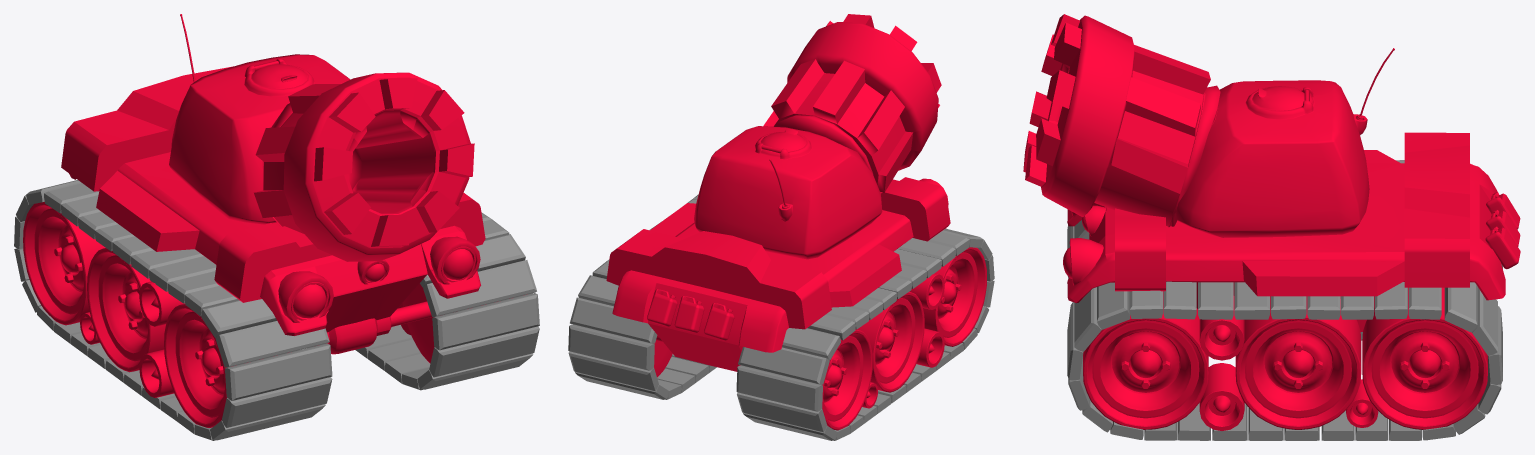
The model's file is HeavyTank.fbx.
The picture shows the model from 3 angles, left to right: view 1: azimuth 30°, elevation 25°; view 2: azimuth 150°, elevation 25°; view 3: azimuth 270°, elevation 25°; orthographic projection. The views are drawn at different scales.
Parts seen in each view (by area): view 1: TankHeavyChassis, TankHeavyTurret, TankHeavyTracksRight, TankHeavyTracksLeft; view 2: TankHeavyChassis, TankHeavyTurret, TankHeavyTracksRight, TankHeavyTracksLeft; view 3: TankHeavyChassis, TankHeavyTurret, TankHeavyTracksLeft.
Boxes of the visible parts, box(x1,y1,x2,y2) form: TankHeavyChassis: box(23, 66, 485, 427); TankHeavyTurret: box(169, 14, 474, 261); TankHeavyTracksRight: box(14, 180, 332, 440); TankHeavyTracksLeft: box(355, 212, 539, 390); TankHeavyChassis: box(606, 177, 986, 430); TankHeavyTurret: box(694, 14, 941, 259); TankHeavyTracksRight: box(736, 228, 994, 440); TankHeavyTracksLeft: box(568, 194, 716, 399); TankHeavyChassis: box(1063, 132, 1520, 430); TankHeavyTurret: box(1023, 14, 1394, 237); TankHeavyTracksLeft: box(1067, 281, 1502, 440).
Bounding box in the file's own units: 213 × 226 × 295.
